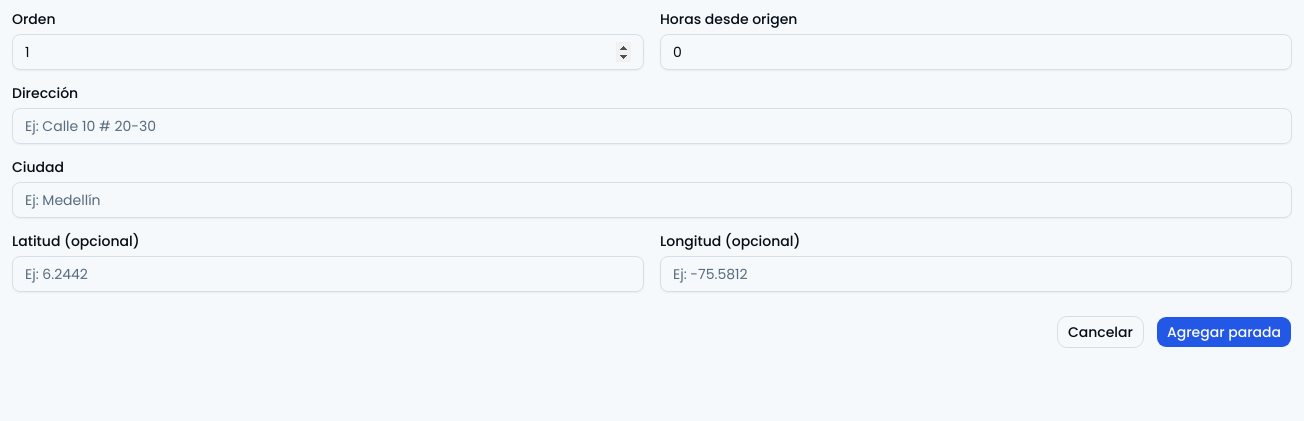
Test: StopForm — validación › estimated_offset_hours negativo genera error 'Debe ser >= 0'
Type "Av. Test" into the field labelled "Dirección" at (652, 126), box [12,108,1292,144]
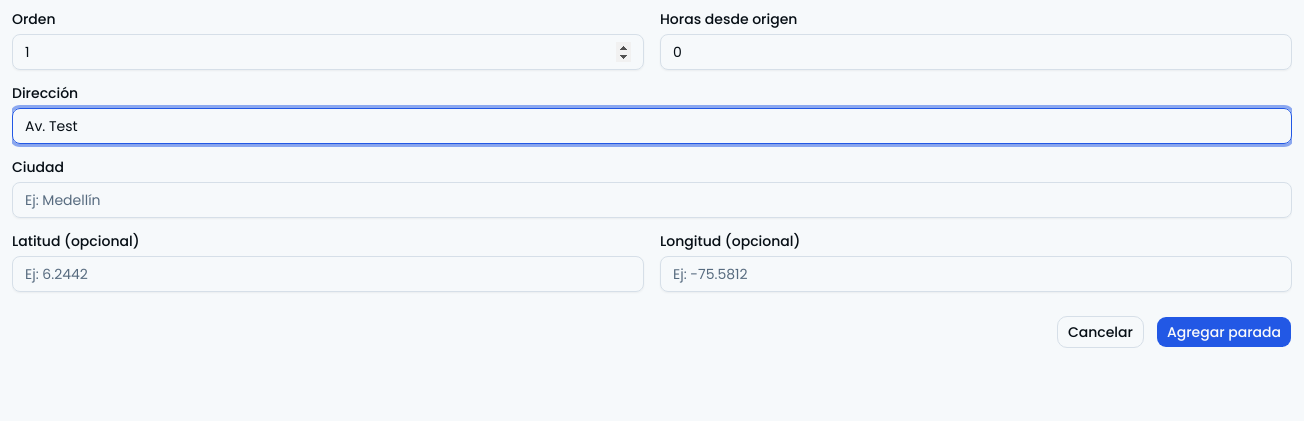
Type "Bogotá" into the field labelled "Ciudad" at (652, 200), box [12,182,1292,218]
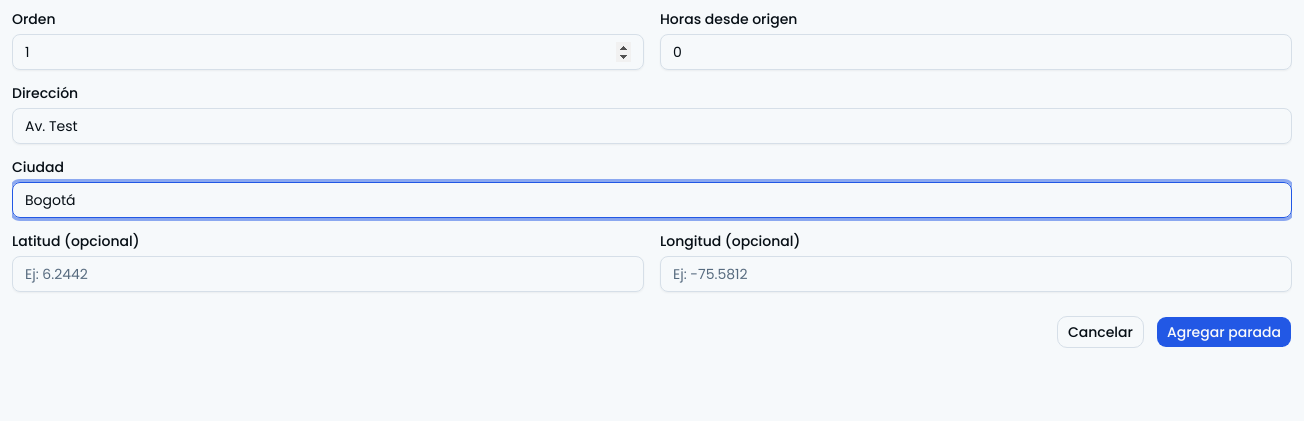
Replace the text in the number field labelled "Horas desde origen" with "-1" at (976, 52), box [660,34,1292,70]
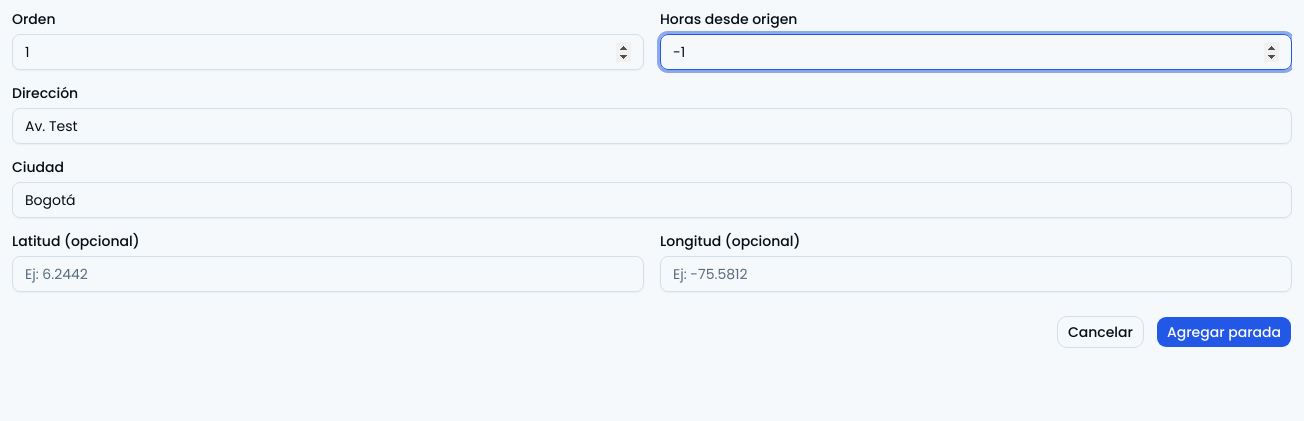
Click the button "Agregar parada" at (1224, 332), box [1156,316,1292,348]
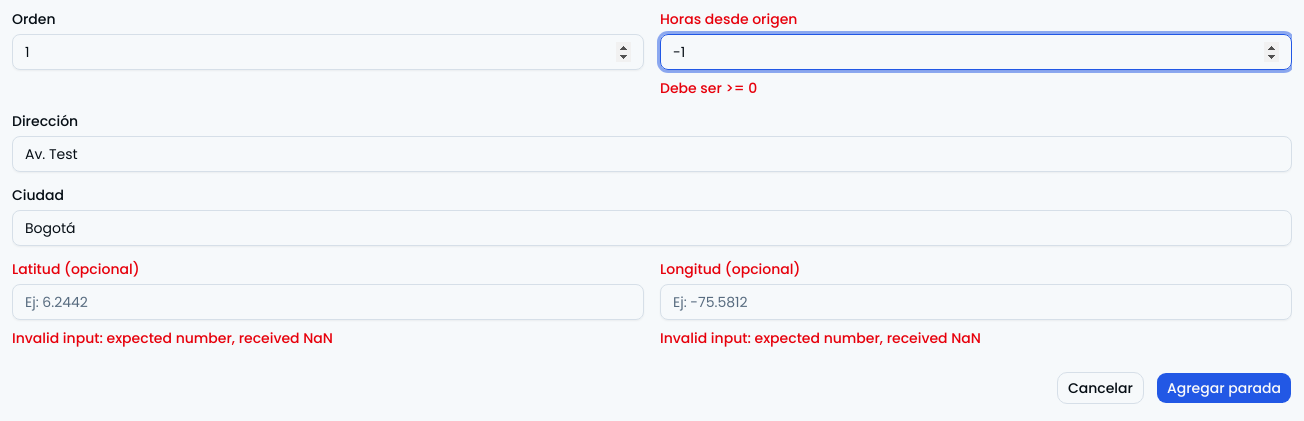
Now the text "Debe ser >= 0" is shown, box [660,78,757,98]
